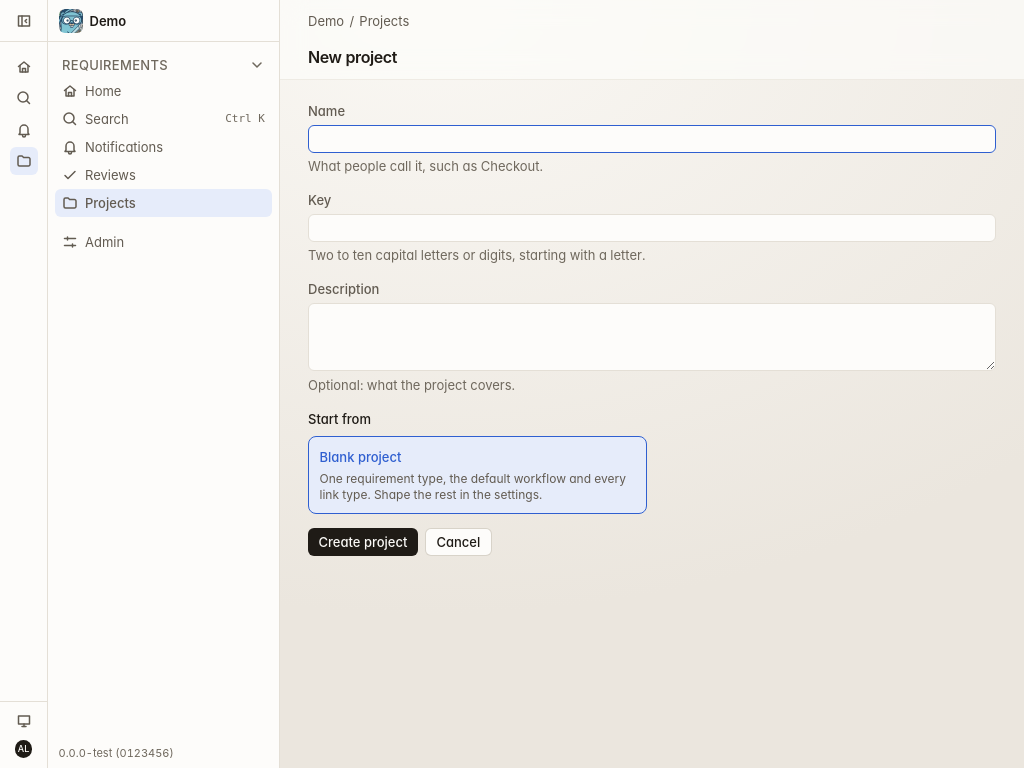
Scenario: a new project › says whether a key typed is free, and shows the field the server refused
The width and height of the screenshot is (1024, 768).
Step 1. Type "Checkout" into the field labelled "Name" → (652,138), box [308,124,996,152]
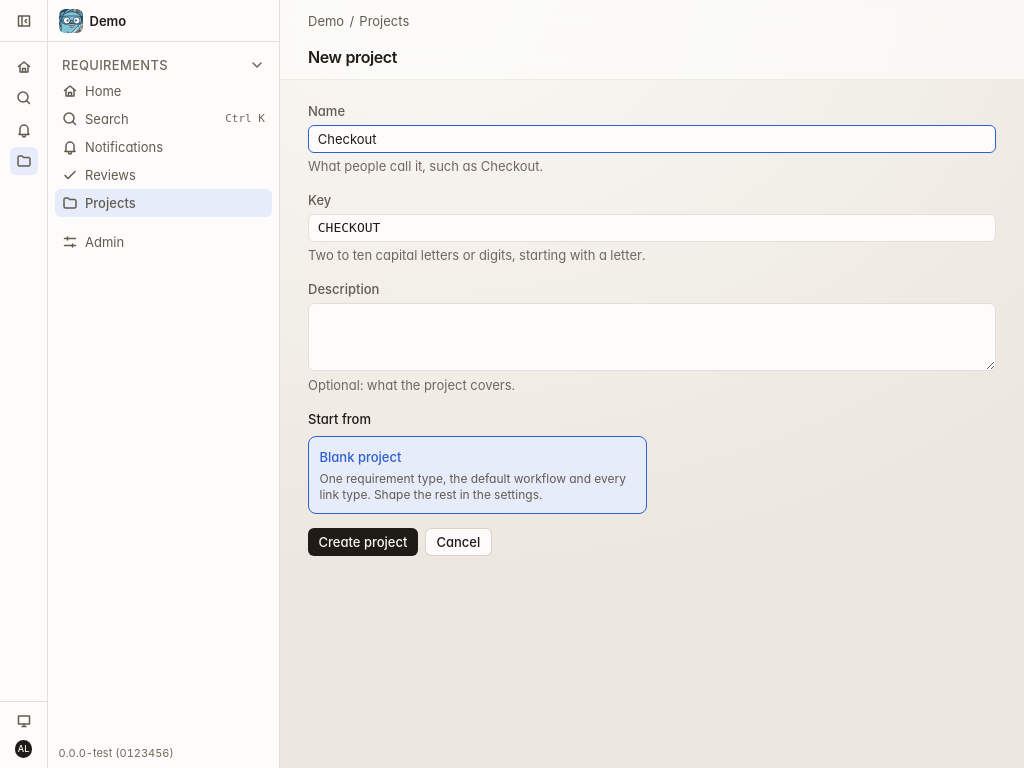
Step 2. Replace the text in the field labelled "Key" with "chk" → (652,228), box [308,214,996,242]
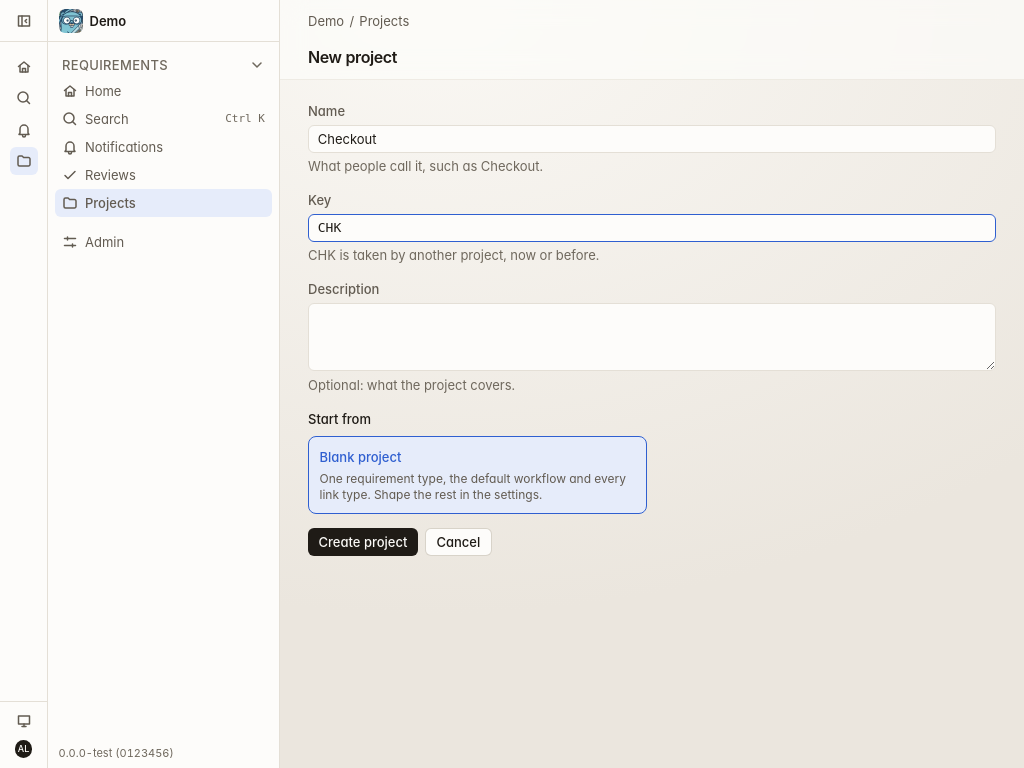
Result: the text "CHK is taken by another project, now or before." is shown at [308,247,599,263]
Step 3. Click the button "Create project" → (363,542), box [308,528,418,556]
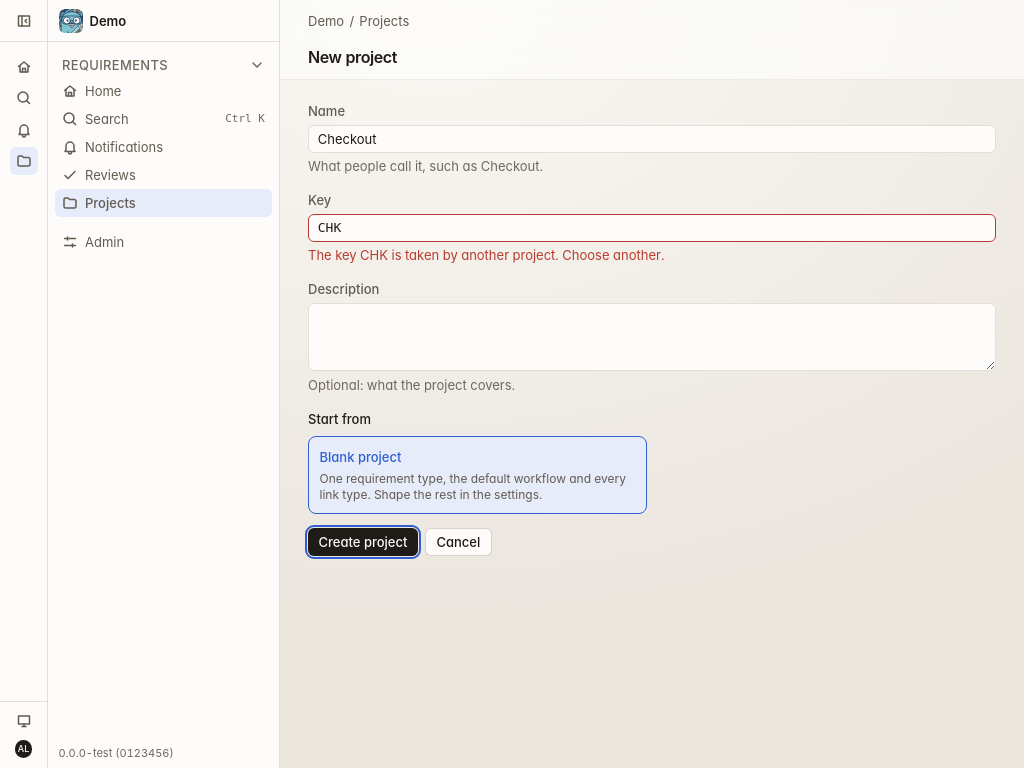
Result: the text "The key CHK is taken by another project. Choose another." is shown at [308,247,664,263]
